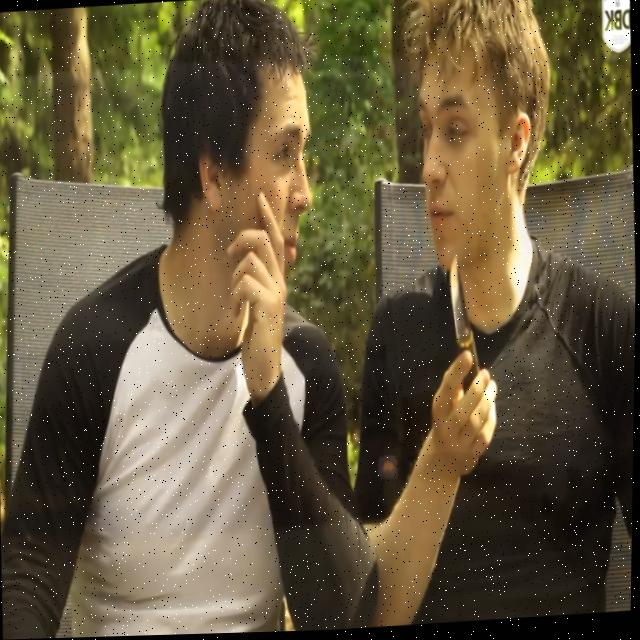knife: (445, 253, 476, 357)
